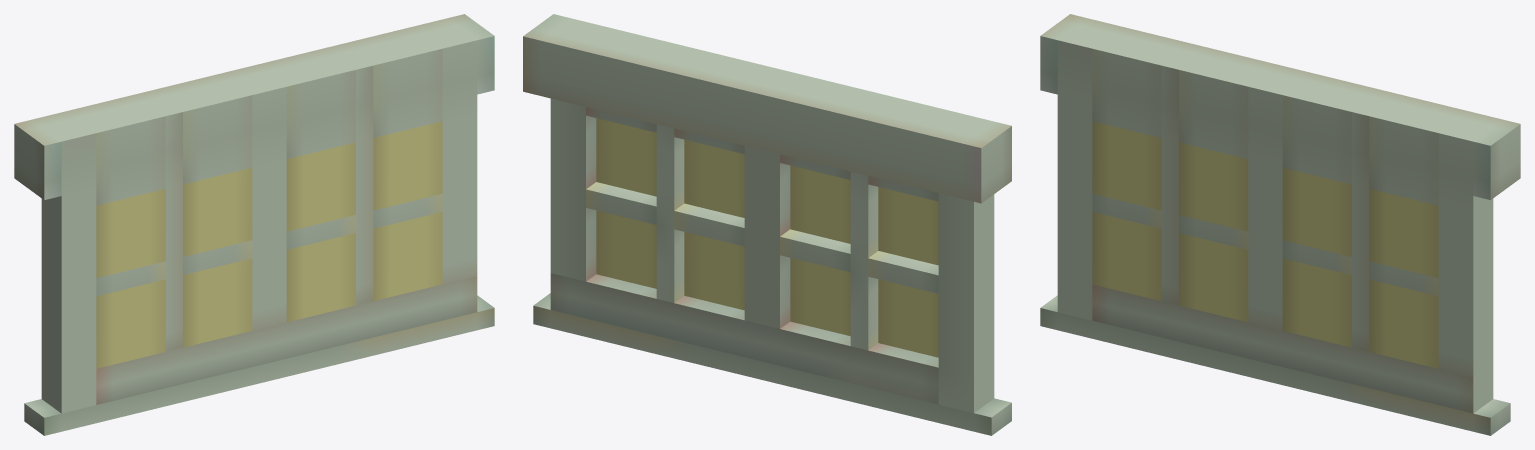
Rendered from WindowFrame4PaneOutside_B_01.obj.
3 renders of one model, left to right at view 1: azimuth 30°, elevation 25°; view 2: azimuth 150°, elevation 25°; view 3: azimuth 330°, elevation 25°, orthographic.
Parts seen in each view (by area): view 1: WindowFrame4PaneOutside_B_01; view 2: WindowFrame4PaneOutside_B_01; view 3: WindowFrame4PaneOutside_B_01.
Boxes of the visible parts, box(x1,y1,x2,y2) form: WindowFrame4PaneOutside_B_01: box(14, 14, 494, 435); WindowFrame4PaneOutside_B_01: box(523, 14, 1011, 435); WindowFrame4PaneOutside_B_01: box(1040, 14, 1520, 435).
Bounding box in the file's own units: 1.3 × 0.8 × 0.15.
